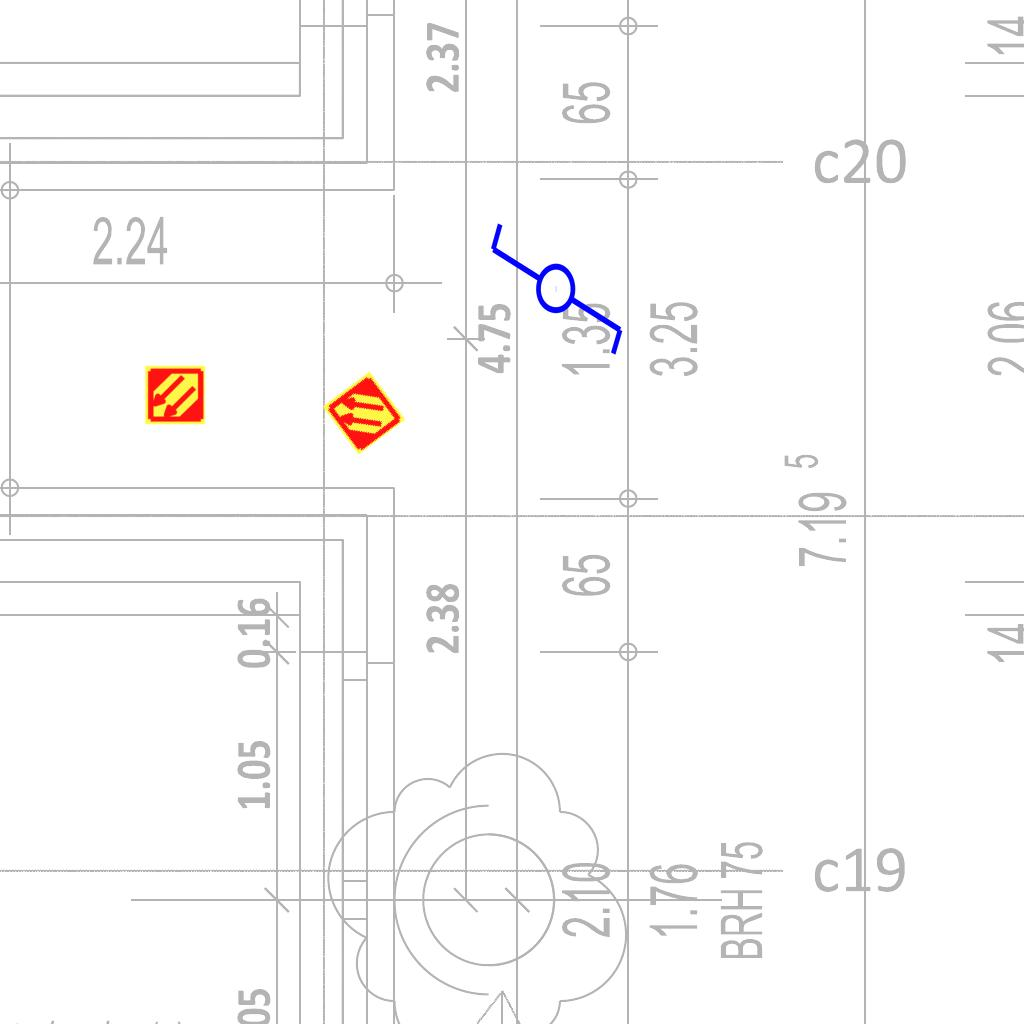ASR_Ansaugrauchmelder: (320, 369, 408, 457), (144, 364, 206, 426)
Wechselschalter: (486, 202, 630, 359)
